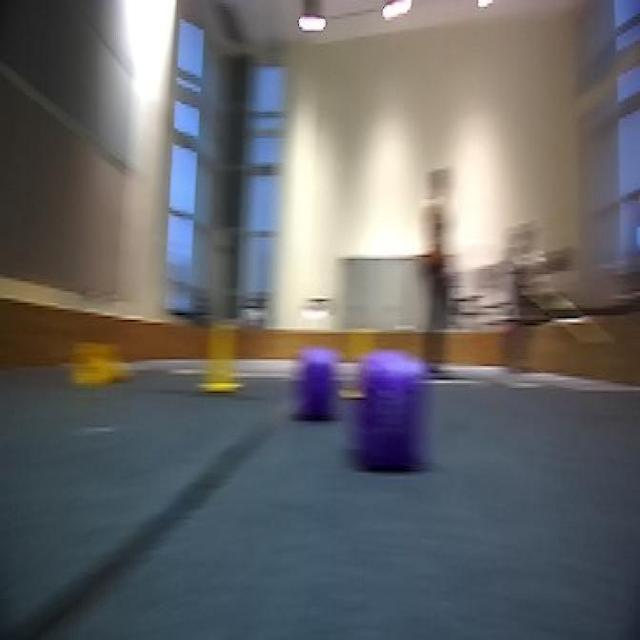frc_cone: (202, 318, 245, 398), (332, 332, 379, 398), (80, 336, 132, 394)
frc_cube: (361, 371, 429, 482), (301, 371, 335, 417)
